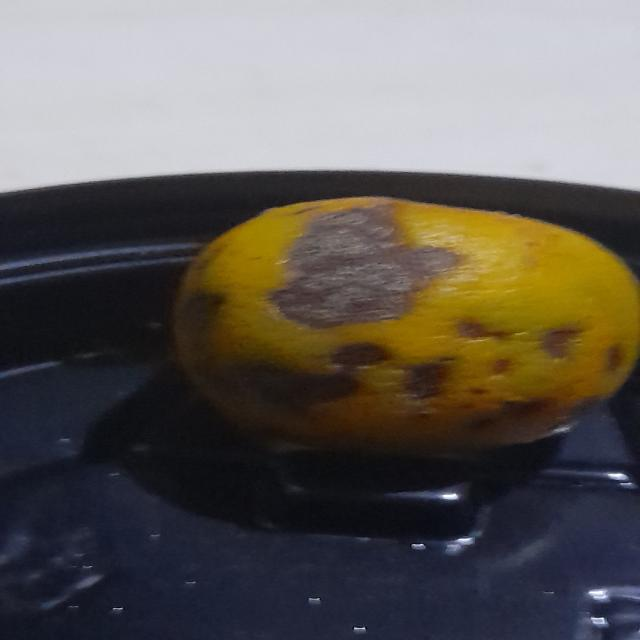black spot: (165, 198, 640, 494)
